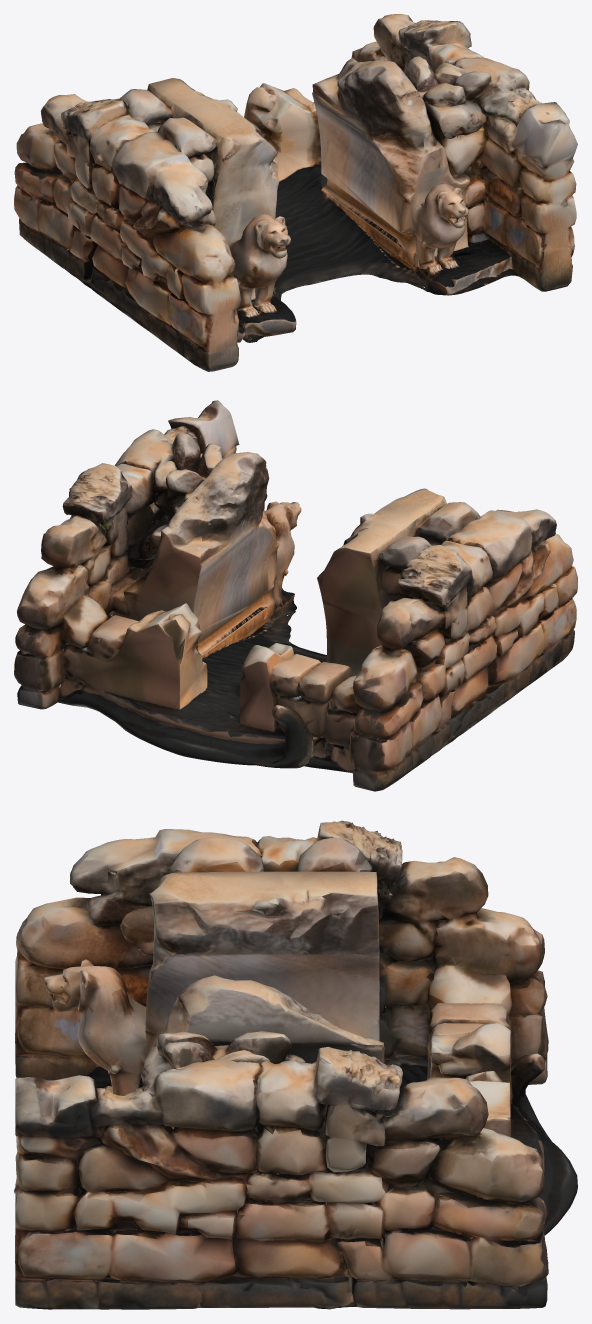
Rendered from aslanli_yol.glb.
3 renders of one model, top to bottom at view 1: azimuth 30°, elevation 25°; view 2: azimuth 150°, elevation 25°; view 3: azimuth 270°, elevation 25°, orthographic. The views are drawn at different scales.
Parts seen in each view (by area): view 1: Meshy_AI_Hattusa_Lion_Gate_0225165732_texture; view 2: Meshy_AI_Hattusa_Lion_Gate_0225165732_texture; view 3: Meshy_AI_Hattusa_Lion_Gate_0225165732_texture.
Boxes of the visible parts, <box> form: Meshy_AI_Hattusa_Lion_Gate_0225165732_texture: <box>14,14,577,371</box>; Meshy_AI_Hattusa_Lion_Gate_0225165732_texture: <box>14,400,577,791</box>; Meshy_AI_Hattusa_Lion_Gate_0225165732_texture: <box>14,820,577,1309</box>.
Size of the model in its own units: 2 by 0.9203 by 1.82.
Materials: 1 (1 with a texture image).
